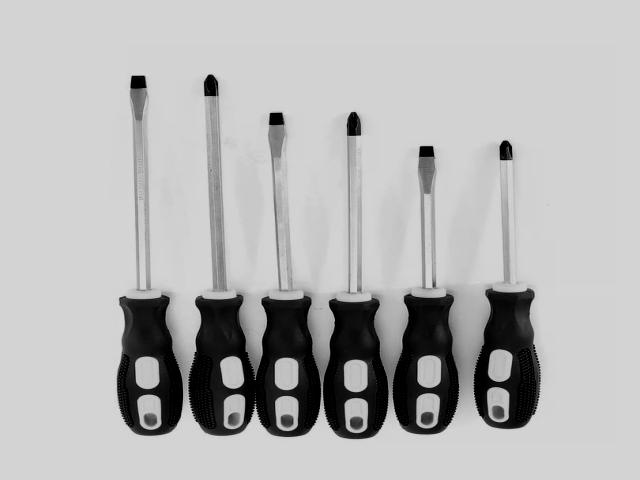Screwdriver: (117, 76, 183, 436), (189, 75, 254, 436), (323, 113, 389, 439), (256, 113, 320, 437), (393, 147, 459, 434), (474, 141, 540, 428)
